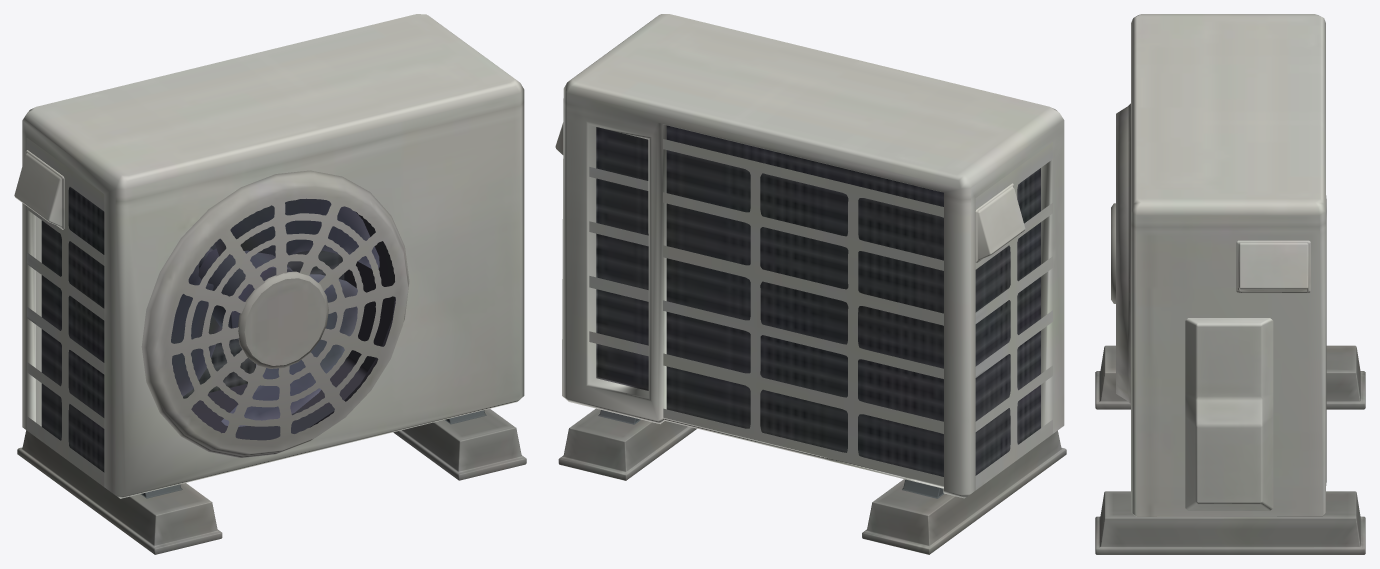
The picture shows the model from 3 angles, left to right: view 1: azimuth 30°, elevation 25°; view 2: azimuth 150°, elevation 25°; view 3: azimuth 270°, elevation 25°; orthographic projection. The views are drawn at different scales.
Bounding box in the file's own units: 9.65 × 7.53 × 5.14.
1 material, 1 textured.
